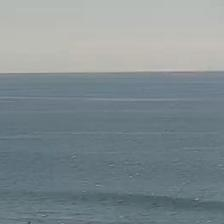surfer: (27, 221, 32, 223)
